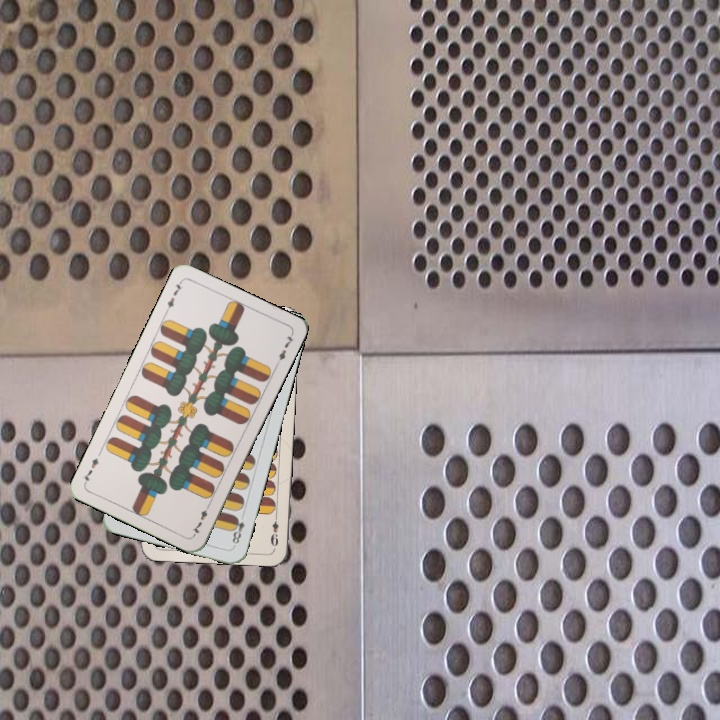E7: (188, 500, 213, 538), (161, 277, 185, 315)
E8: (228, 512, 247, 549)
E9: (266, 510, 281, 550)
